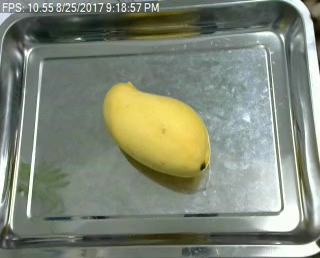Mango: (101, 78, 212, 179)
